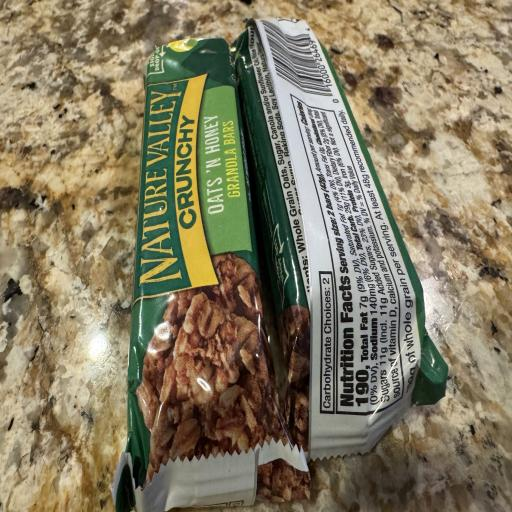granola: (233, 19, 447, 458), (112, 39, 309, 511)
